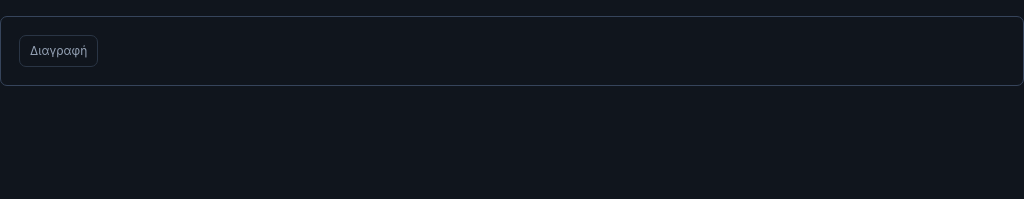
Scenario: malformed impact refuses confirmation and deletion: {}
What coordinates should you click on to do the following:
click the button with aria-label "Διαγραφή εργαστηρίου Δοκιμή"
I would click on:
 (59, 51)
Its box is [19, 35, 98, 67].
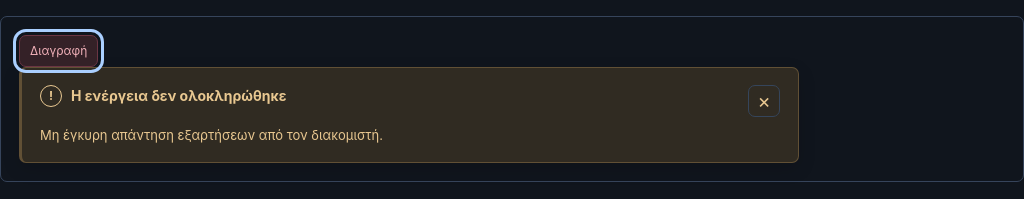
expect the message shows "Μη έγκυρη": met, box [40, 127, 383, 143]
